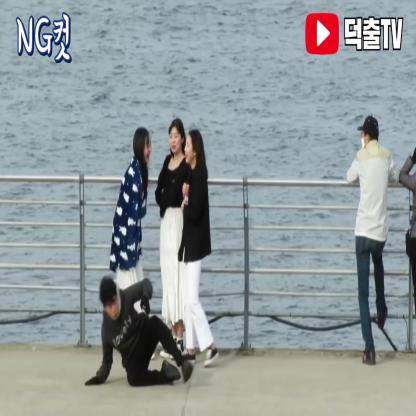Fall_Down: (84, 274, 196, 389)
